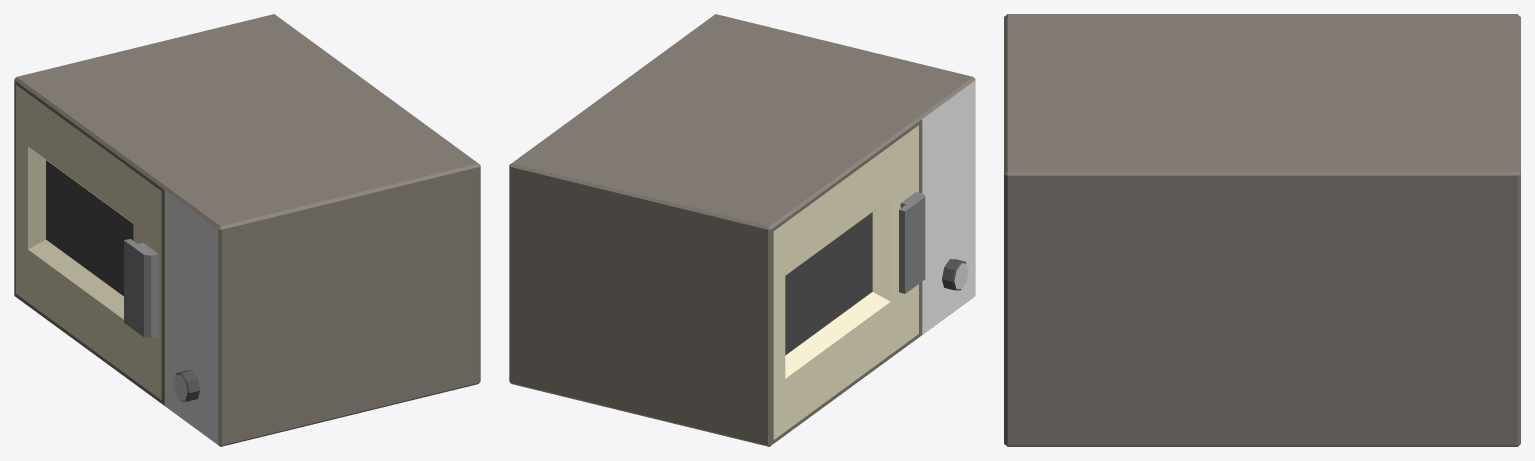
File: SM_Microwave.fbx
The picture shows the model from 3 angles, left to right: view 1: azimuth 30°, elevation 25°; view 2: azimuth 150°, elevation 25°; view 3: azimuth 270°, elevation 25°; orthographic projection. The views are drawn at different scales.
Parts seen in each view (by area): view 1: pCube11; view 2: pCube11; view 3: pCube11.
Part boxes in pixels (x1,y1,x2,y2): pCube11: (14,14,480,446); pCube11: (509,14,975,446); pCube11: (1004,14,1520,446).
Size of the model in its own units: 0.4874 by 0.3746 by 0.6362.
